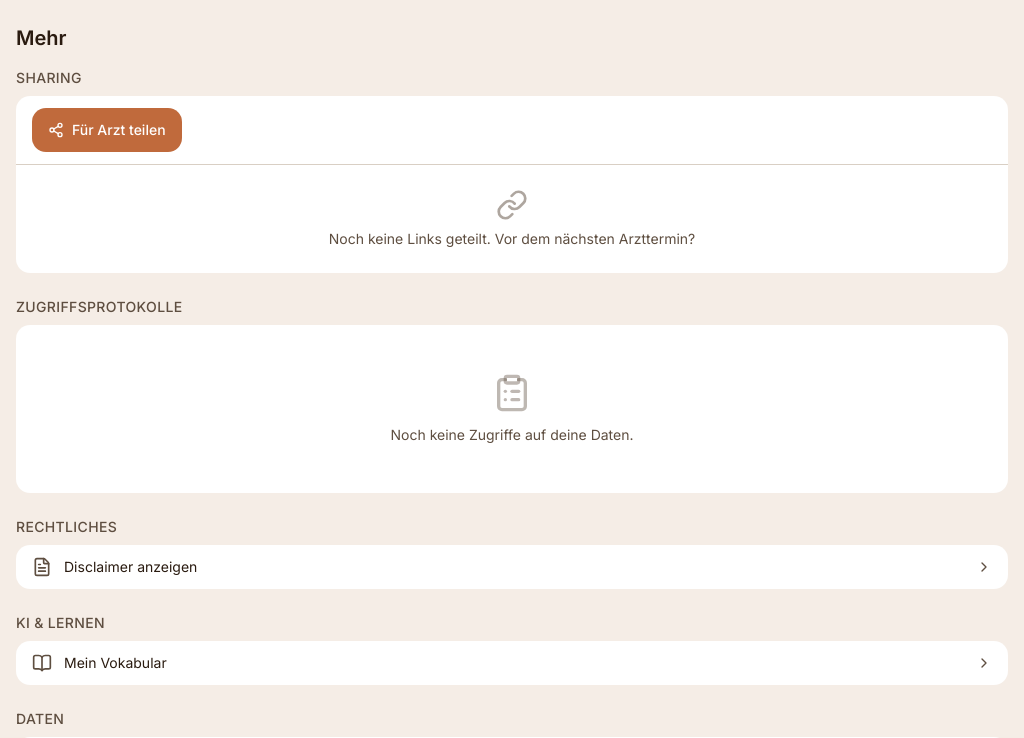
Scenario: Mehr-Seite › öffnet Disclaimer-Dialog bei Klick auf Disclaimer-Button
What coordinates should you click on to do the following:
click the button "Disclaimer anzeigen"
I would click on:
 (131, 566)
Its box is [16,545,1008,589].
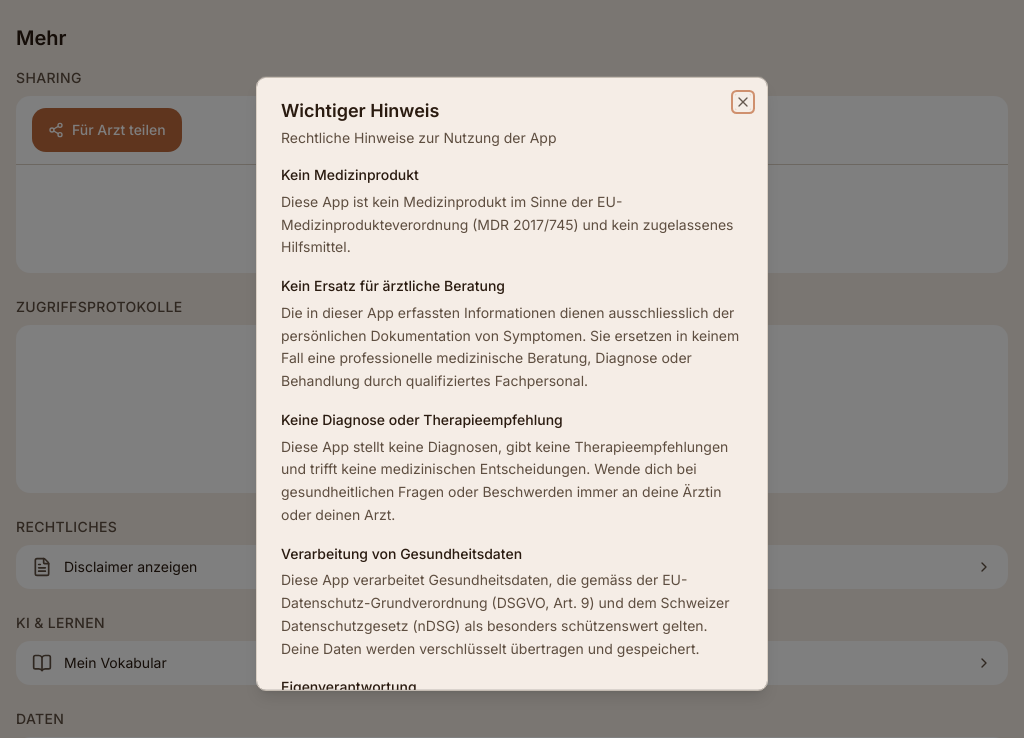
Result: the heading "Wichtiger Hinweis" is shown at [281,100,440,121]
Result: the heading "Kein Medizinprodukt" is shown at [281,166,419,183]
